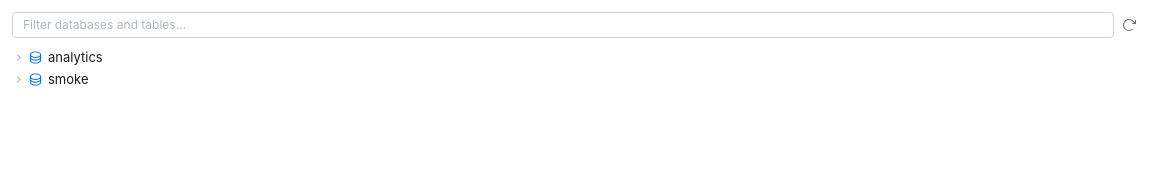
Test case: schema filter › finds a table by name and opens its database
Expected: the text "smoke" is shown, [48,69,88,89]
Type "orde" into the field with placeholder "Filter databases and tables…". click: point(563, 25)
box: [12,12,1114,38]
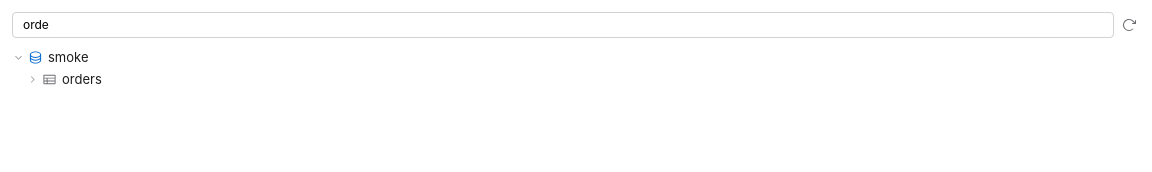
Expected: the text "orders" is shown, [62,69,102,89]
Expected: the button "analytics" is gone
